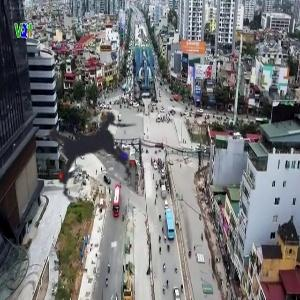drone: (2, 57, 185, 240)
